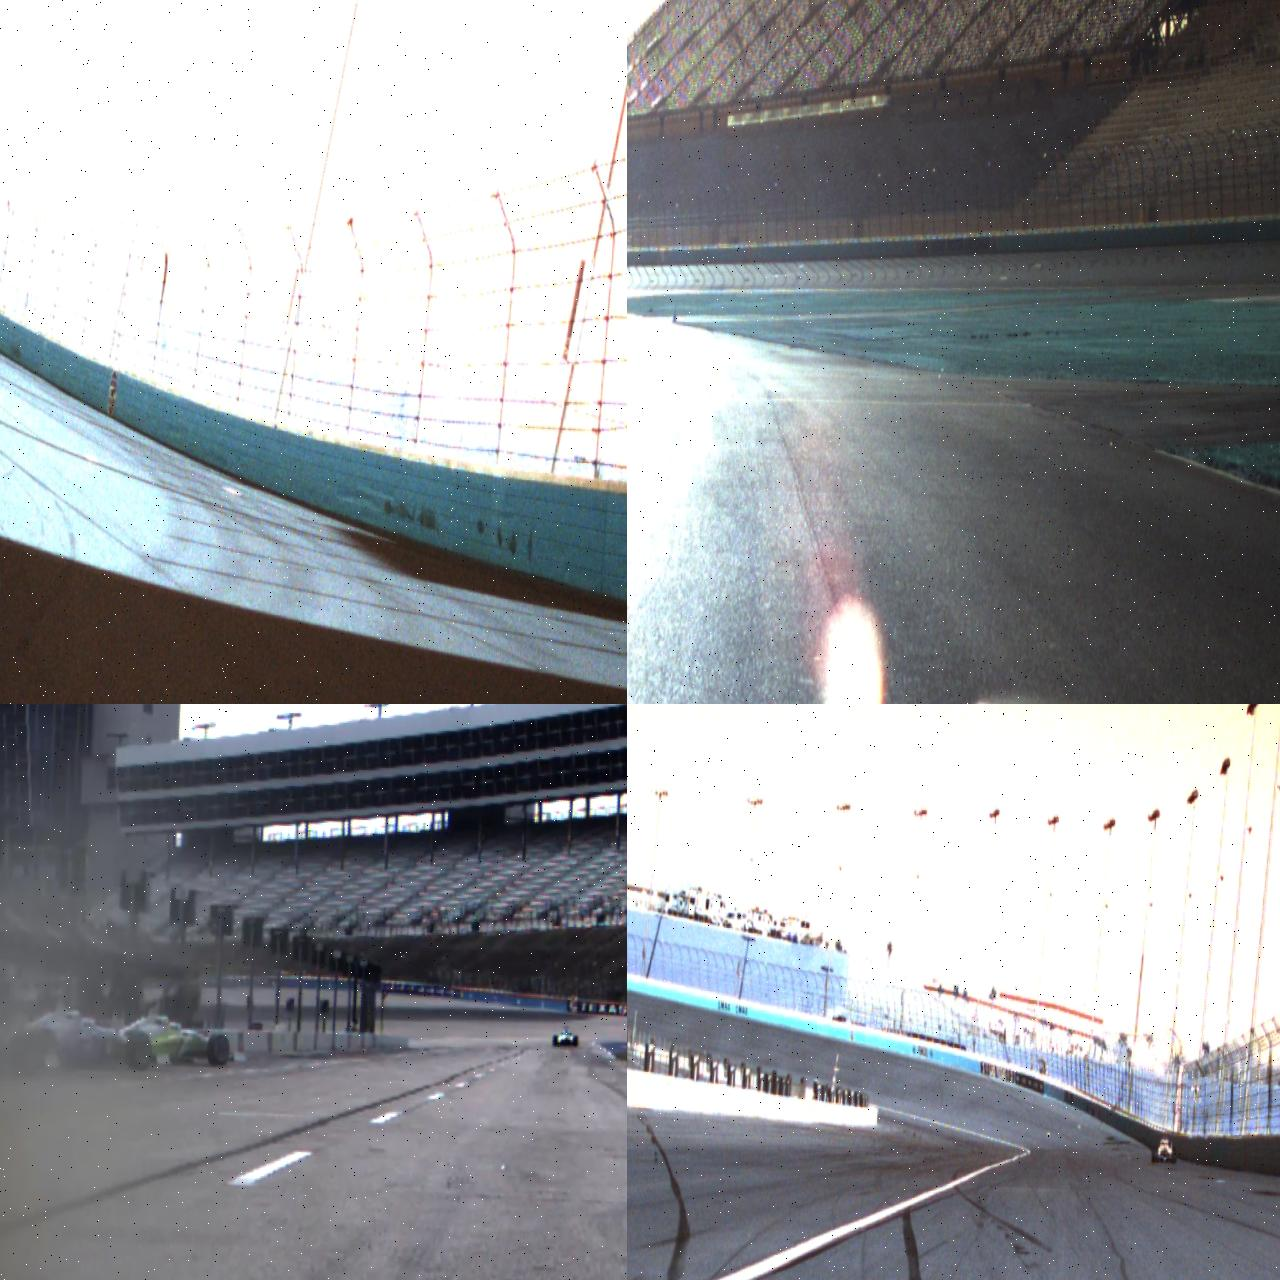AV: (8, 987, 155, 1073), (115, 996, 232, 1068), (1151, 1130, 1178, 1164), (551, 1024, 579, 1048)
Wheel: (124, 1030, 152, 1071), (206, 1033, 231, 1067), (1151, 1145, 1157, 1163), (1171, 1146, 1177, 1163), (552, 1035, 558, 1047), (573, 1035, 578, 1047)
